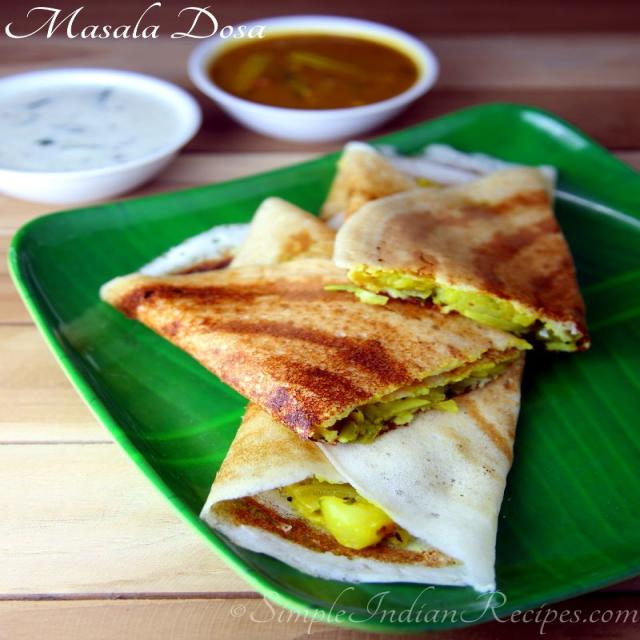masala_dosa: (172, 151, 594, 606)
